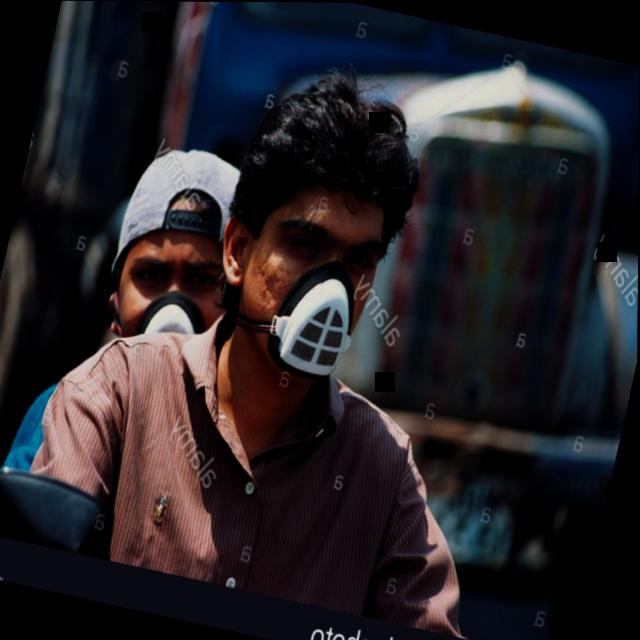Mask: (194, 56, 442, 405), (87, 134, 254, 388)
